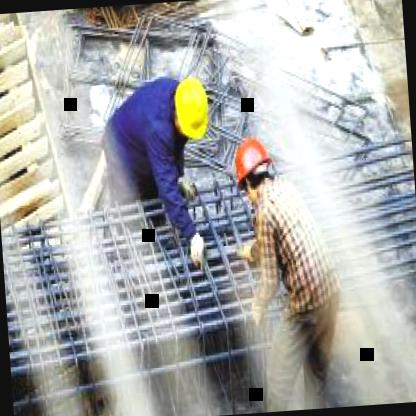helmet: (230, 134, 278, 212), (168, 71, 214, 143)
